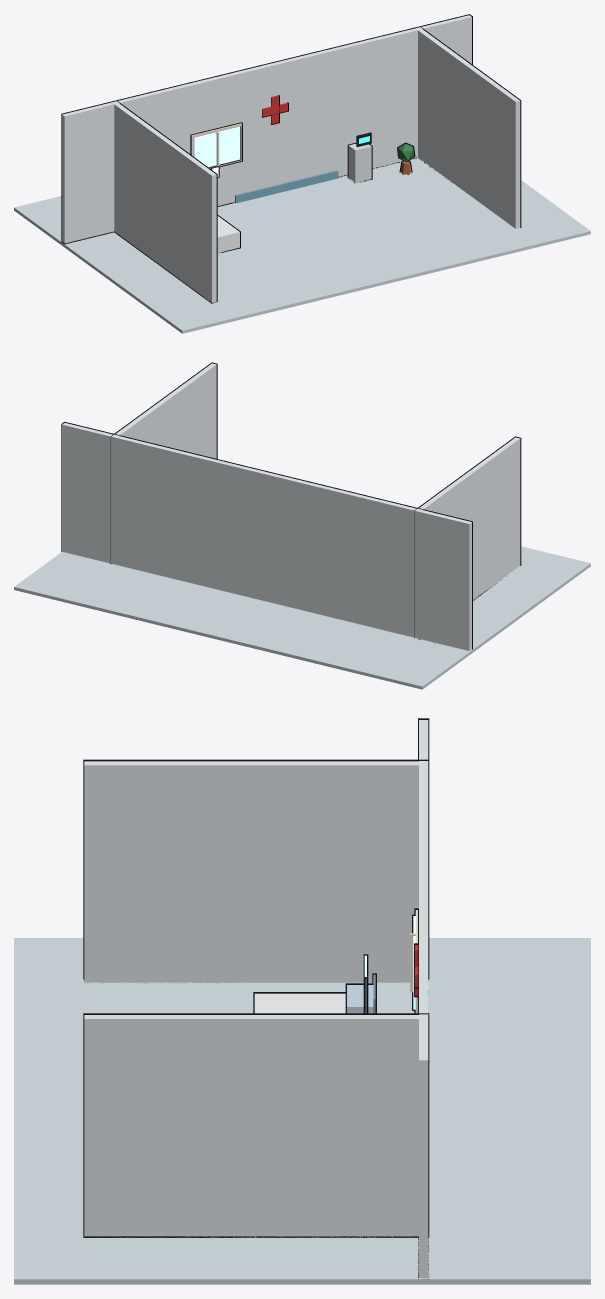
File: cut-hospital.glb
The picture shows the model from 3 angles, top to bottom: view 1: azimuth 30°, elevation 25°; view 2: azimuth 150°, elevation 25°; view 3: azimuth 270°, elevation 25°; orthographic projection. The views are drawn at different scales.
Parts seen in each view (by area): view 1: Cube, Cube.001, Cube.002, Cube.003, Cube.014, Cube.016, Cube.008, Cube.004, Cube.013; view 2: Cube.001, Cube, Cube.002, Cube.003; view 3: Cube, Cube.003, Cube.002, Cube.001, Cube.004, Cube.005.
Part boxes in pixels (bbox=[...]): Cube: bbox=[14, 157, 590, 333]; Cube.001: bbox=[61, 14, 472, 244]; Cube.002: bbox=[114, 100, 217, 303]; Cube.003: bbox=[418, 26, 521, 228]; Cube.014: bbox=[194, 126, 241, 167]; Cube.016: bbox=[235, 170, 338, 203]; Cube.008: bbox=[347, 142, 372, 183]; Cube.004: bbox=[217, 215, 240, 253]; Cube.013: bbox=[190, 122, 242, 168]; Cube.001: bbox=[61, 421, 472, 650]; Cube: bbox=[14, 546, 590, 689]; Cube.002: bbox=[414, 436, 521, 639]; Cube.003: bbox=[110, 362, 217, 564]; Cube: bbox=[14, 938, 590, 1284]; Cube.003: bbox=[83, 1013, 429, 1237]; Cube.002: bbox=[83, 759, 429, 982]; Cube.001: bbox=[418, 718, 429, 1279]; Cube.004: bbox=[253, 992, 345, 1013]; Cube.005: bbox=[345, 983, 373, 1013].
Size of the model in its own units: 14 by 4.3 by 10.
